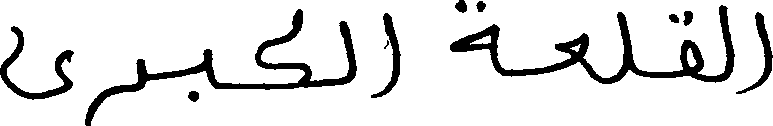ا: (380, 11, 401, 97), (753, 9, 771, 89)
ب: (184, 47, 214, 105)
ة: (449, 0, 500, 76)
ر: (84, 56, 147, 124)
ع: (552, 31, 588, 74)
ق: (667, 8, 704, 82)
ك: (254, 6, 312, 90)
ل: (717, 2, 736, 94), (336, 19, 357, 85), (615, 10, 634, 82)
ى: (0, 24, 72, 100)
